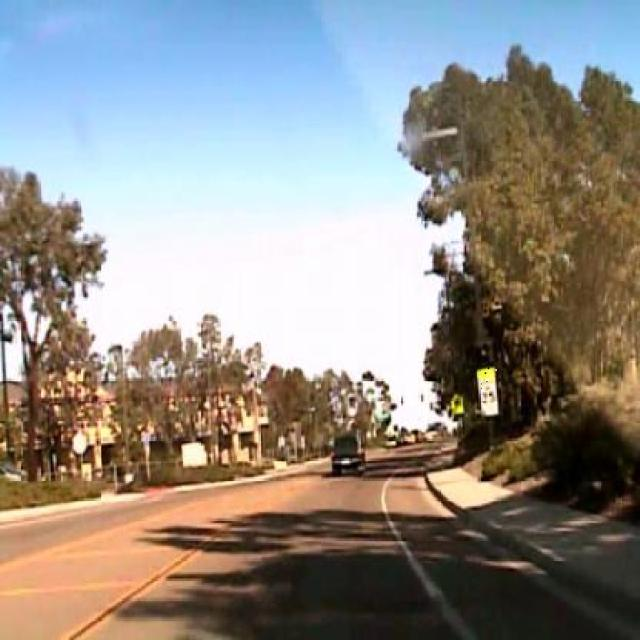schoolSpeedLimit25: (476, 366, 498, 415)
